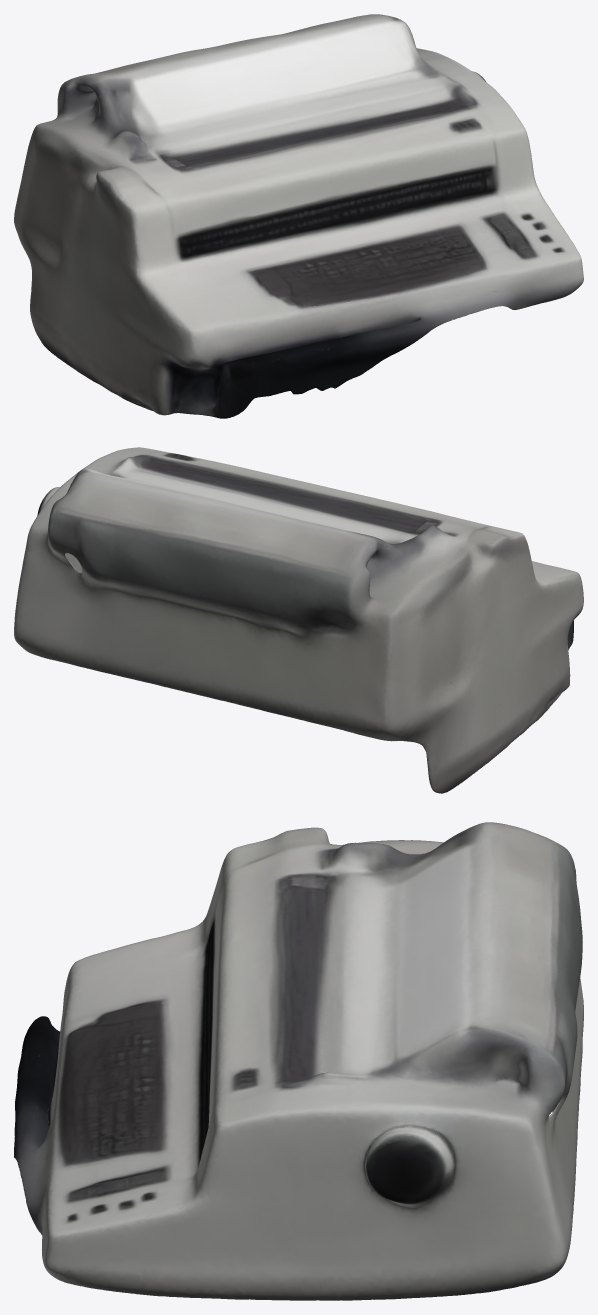
File: ibm5471-reference.glb
3 renders of one model, top to bottom at view 1: azimuth 30°, elevation 25°; view 2: azimuth 150°, elevation 25°; view 3: azimuth 270°, elevation 25°, orthographic. The views are drawn at different scales.
Parts seen in each view (by area): view 1: geometry_0; view 2: geometry_0; view 3: geometry_0.
Boxes of the visible parts, x1=… form: geometry_0: x1=14, y1=14, x2=583, y2=418; geometry_0: x1=14, y1=447, x2=583, y2=793; geometry_0: x1=14, y1=822, x2=583, y2=1300.
Bounding box in the file's own units: 1 × 0.5505 × 0.8414.
Materials: 1 (1 with a texture image).
